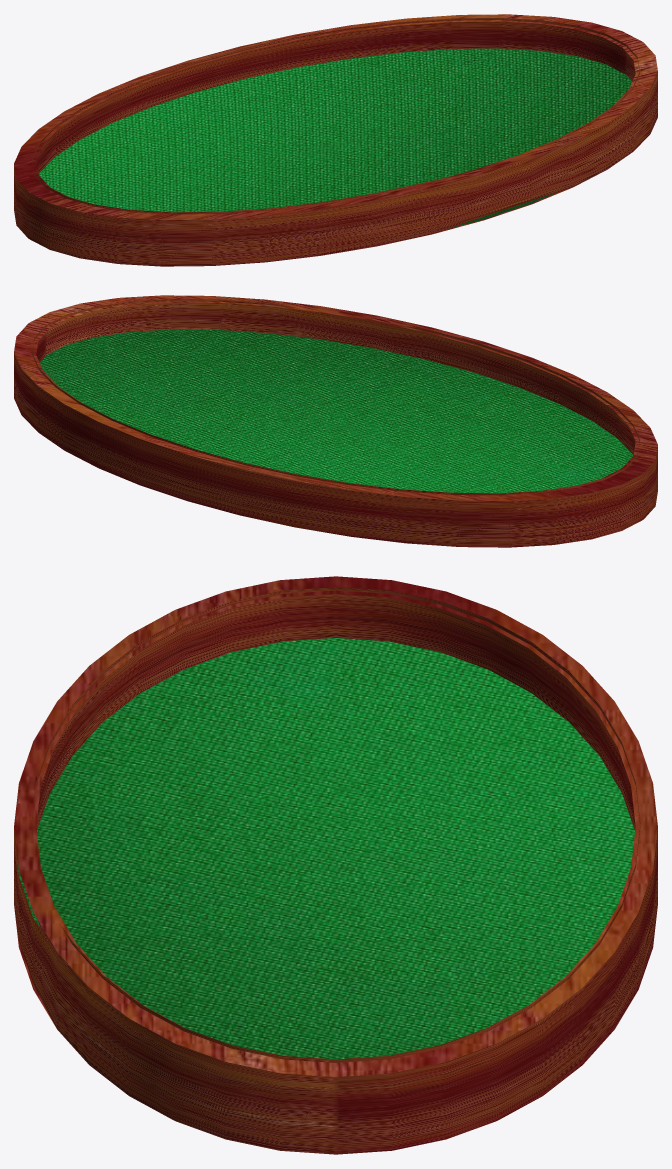
Rendered from mesa de billar 2.0.fbx.
3 renders of one model, top to bottom at view 1: azimuth 30°, elevation 25°; view 2: azimuth 150°, elevation 25°; view 3: azimuth 270°, elevation 25°, orthographic. The views are drawn at different scales.
Visible parts, largest first — view 1: Cylinder, Cylinder_2, Cylinder_3; view 2: Cylinder, Cylinder_2, Cylinder_3; view 3: Cylinder, Cylinder_2, Cylinder_3.
Part boxes in pixels (x1=…): Cylinder: x1=38, y1=48, x2=632, y2=228; Cylinder_2: x1=14, y1=14, x2=657, y2=266; Cylinder_3: x1=32, y1=18, x2=639, y2=214; Cylinder: x1=39, y1=329, x2=633, y2=493; Cylinder_2: x1=14, y1=295, x2=657, y2=547; Cylinder_3: x1=32, y1=299, x2=639, y2=495; Cylinder: x1=17, y1=638, x2=634, y2=1059; Cylinder_2: x1=14, y1=576, x2=657, y2=1154; Cylinder_3: x1=31, y1=587, x2=640, y2=1062.
Size of the model in its own units: 230 by 17.34 by 125.
Materials: 2 (2 with a texture image).
